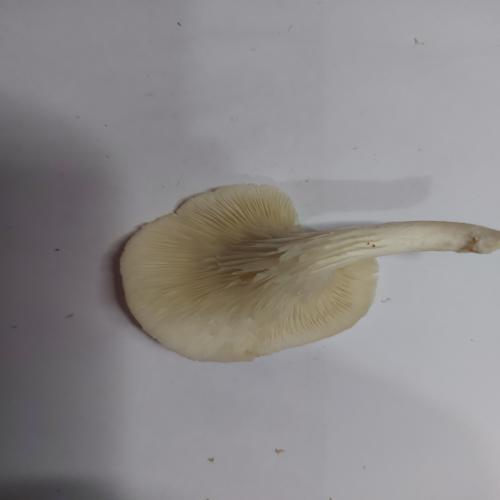Oyster Mushroom: (118, 182, 499, 363)
